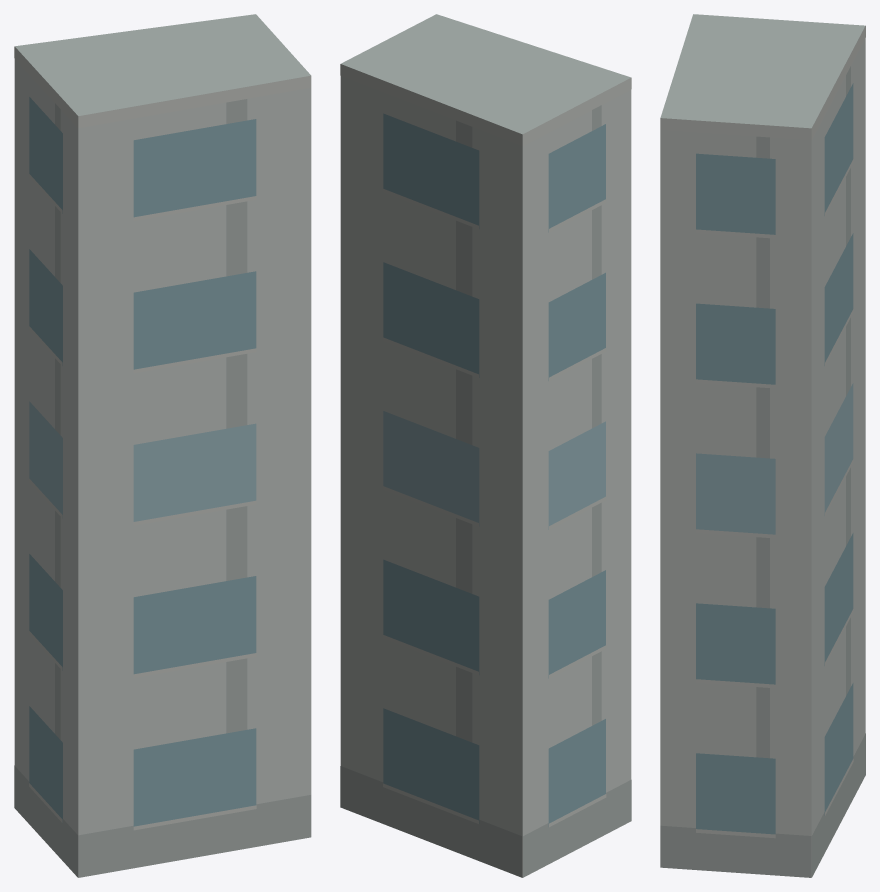
Rendered from survey-upis-32618416.glb.
3 views of the same model, side by side, from view 1: azimuth 30°, elevation 25°; view 2: azimuth 150°, elevation 25°; view 3: azimuth 270°, elevation 25° (orthographic). The views are drawn at different scales.
Visible parts, largest first — view 1: survey-upis-32618416.tmp; view 2: survey-upis-32618416.tmp; view 3: survey-upis-32618416.tmp.
Part boxes in pixels (x1,y1,x2,y2): survey-upis-32618416.tmp: [14, 14, 311, 877]; survey-upis-32618416.tmp: [340, 14, 631, 877]; survey-upis-32618416.tmp: [660, 14, 865, 877].
Size of the model in its own units: 5 by 15.25 by 3.79.
